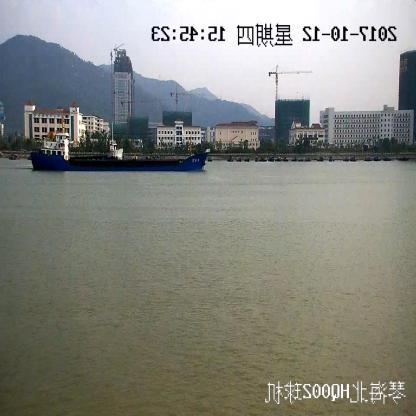Bulk Carrier: (30, 120, 210, 171)
